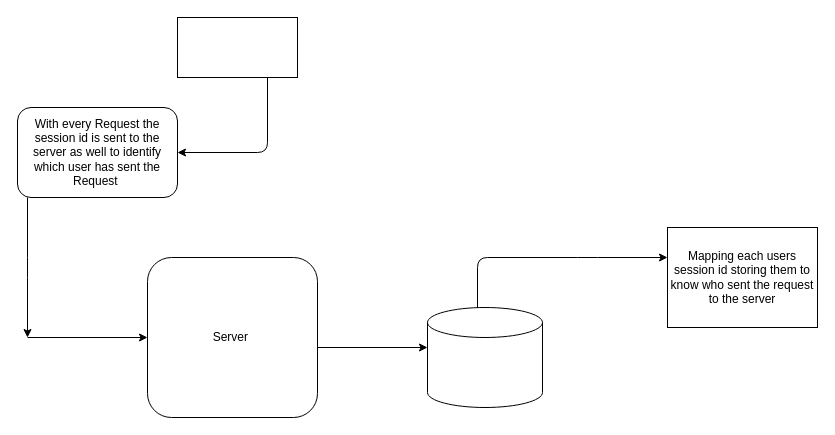
This 835x435 diagram has some shape labels left out. Here are the shapes that lost their labels. From the top down, the centre of each, then its label:
At point 237,47: "{ session_id:213123 }".
At point 484,357: "Database".
